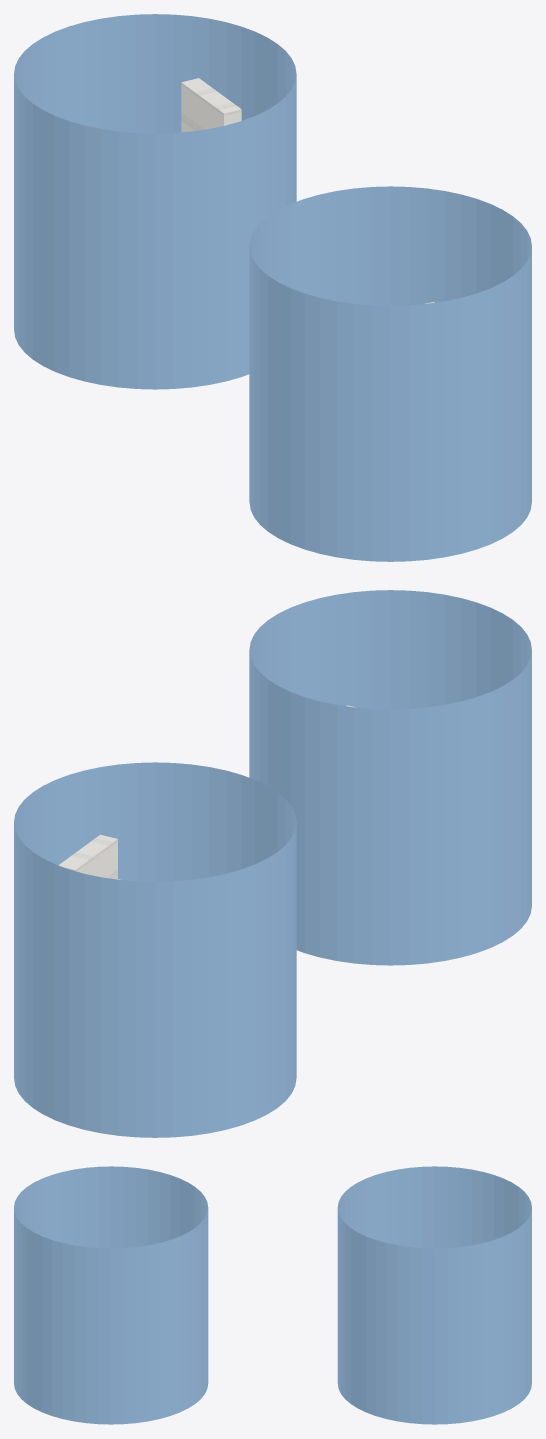
The model's file is house_3.glb.
3 renders of one model, top to bottom at view 1: azimuth 30°, elevation 25°; view 2: azimuth 150°, elevation 25°; view 3: azimuth 270°, elevation 25°, orthographic. The views are drawn at different scales.
Visible parts, largest first — view 1: house_3_lm_2, house_3_fx_1, house_3_lm_1; view 2: house_3_fx_1, house_3_lm_2, house_3_lm_1; view 3: house_3_fx_1, house_3_lm_2.
Part boxes in pixels (box(x1,y1,x2,y2)): house_3_lm_2: box(249, 186, 531, 561); house_3_fx_1: box(14, 14, 296, 389); house_3_lm_1: box(181, 78, 241, 132); house_3_fx_1: box(14, 762, 296, 1137); house_3_lm_2: box(249, 590, 531, 965); house_3_lm_1: box(58, 834, 117, 879); house_3_fx_1: box(337, 1166, 531, 1424); house_3_lm_2: box(14, 1166, 208, 1424).
Bounding box in the file's own units: 18 × 18 × 48.
40 materials, 31 textured.
